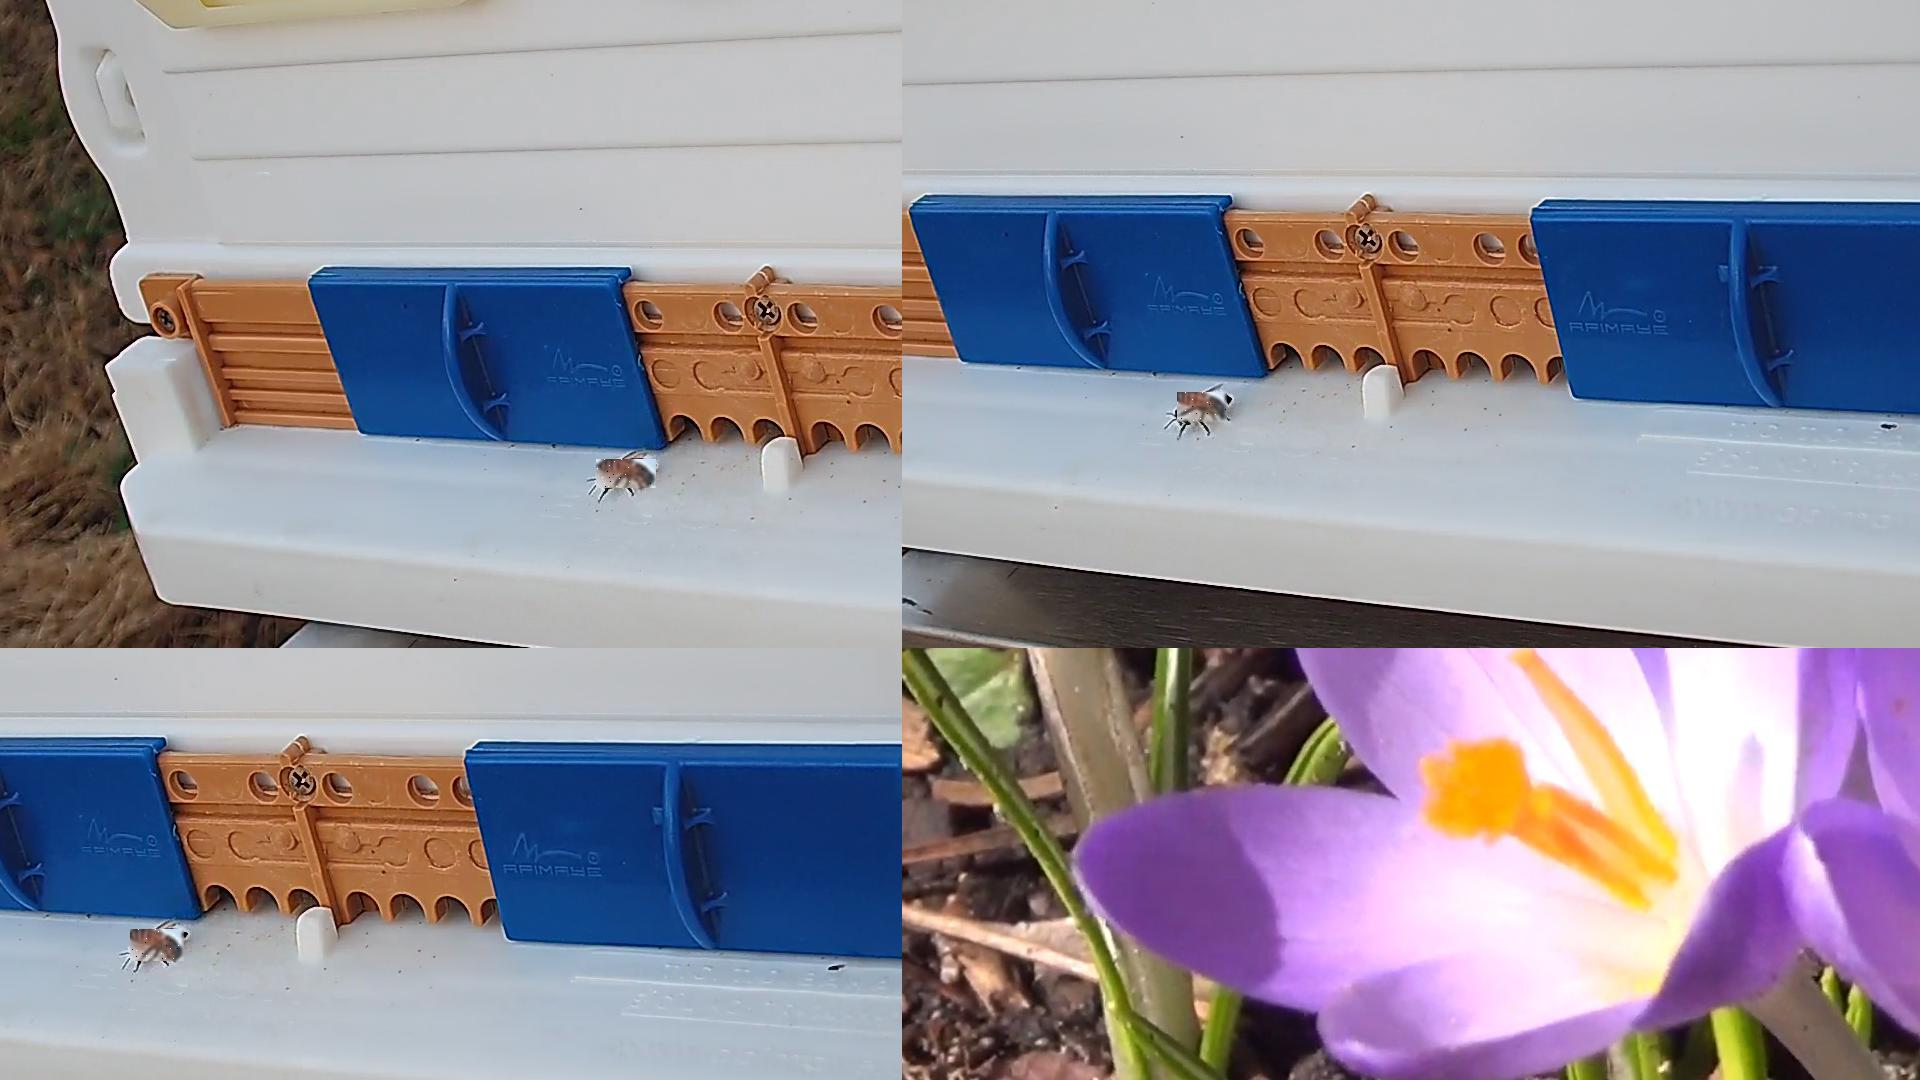bee: (131, 930, 187, 963), (596, 459, 657, 489), (1178, 393, 1230, 425)
